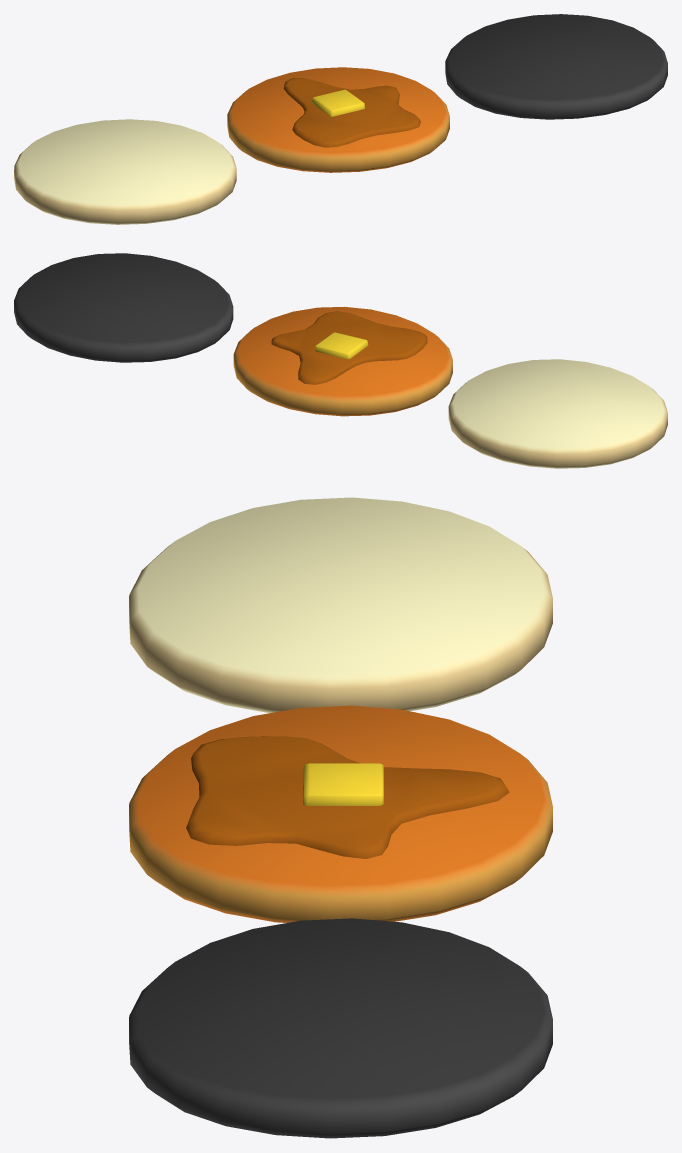
Rendered from pancake.fbx.
3 renders of one model, top to bottom at view 1: azimuth 30°, elevation 25°; view 2: azimuth 150°, elevation 25°; view 3: azimuth 270°, elevation 25°, orthographic. The views are drawn at different scales.
Visible parts, largest first — view 1: pancake_Raw, pancake_Burnt, pancake_Cooked, pancake_Syrup, butter; view 2: pancake_Raw, pancake_Burnt, pancake_Cooked, pancake_Syrup, butter; view 3: pancake_Burnt, pancake_Raw, pancake_Cooked, pancake_Syrup, butter.
Boxes of the visible parts, x1=… form: pancake_Raw: x1=14, y1=119, x2=236, y2=224; pancake_Burnt: x1=445, y1=14, x2=667, y2=119; pancake_Cooked: x1=227, y1=67, x2=449, y2=172; pancake_Syrup: x1=283, y1=78, x2=420, y2=147; butter: x1=312, y1=89, x2=364, y2=116; pancake_Raw: x1=448, y1=359, x2=667, y2=468; pancake_Burnt: x1=14, y1=253, x2=233, y2=362; pancake_Cooked: x1=233, y1=306, x2=452, y2=416; pancake_Syrup: x1=271, y1=311, x2=427, y2=384; butter: x1=314, y1=332, x2=368, y2=359; pancake_Burnt: x1=129, y1=918, x2=552, y2=1138; pancake_Raw: x1=129, y1=497, x2=552, y2=712; pancake_Cooked: x1=129, y1=705, x2=552, y2=922; pancake_Syrup: x1=186, y1=736, x2=509, y2=858; butter: x1=303, y1=763, x2=383, y2=805.
Size of the model in its own units: 3.25 by 0.9586 by 0.1484.
